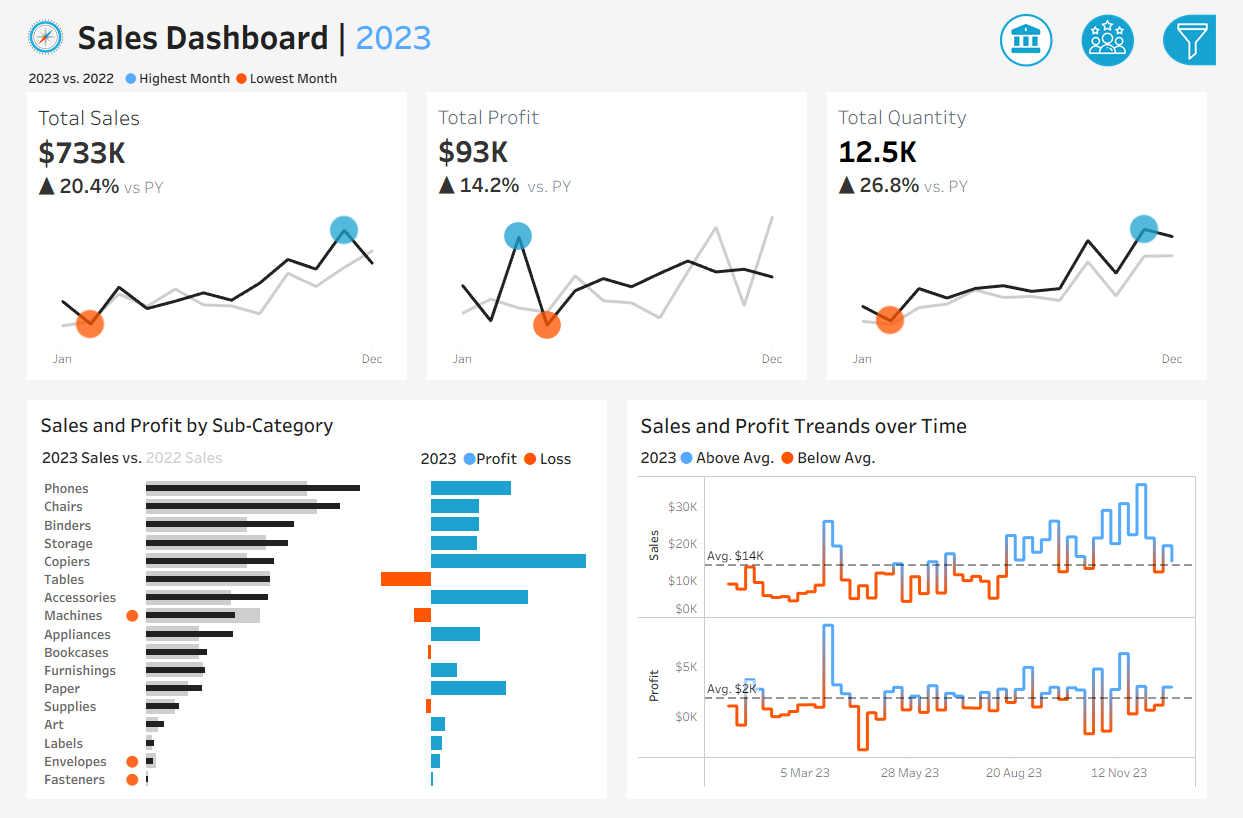

The dashboard page shown, as its layout file describes it:
{"tool":"tableau","page":{"name":"Sales Dashboard","canvas":[1200,800],"ordinal":1},"visuals":[{"type":"image","param":"Image/Icon - Logo.png","box":[2,0,52,55]},{"type":"text","box":[54,0,930,55]},{"type":"dashboard-object","box":[969,0,81,62]},{"type":"dashboard-object","box":[1050,0,81,62]},{"type":"blank","box":[978,5,215,80]},{"type":"worksheet","title":"Legend of KPI","mark":"Automatic","box":[0,55,1200,28]},{"type":"worksheet","title":"KPI Sales","mark":"Line","rows":["Calculation_0787825631051776"],"cols":["Order Date"],"box":[0,83,400,298]},{"type":"worksheet","title":"KPI Profit","mark":"Automatic","rows":["Calculation_0376338495287297"],"cols":["Order Date"],"box":[400,83,400,298]},{"type":"worksheet","title":"KPI Quantity","mark":"Automatic","rows":["Calculation_0591293386543109"],"cols":["Order Date"],"box":[800,83,400,298]},{"type":"text","box":[978,85,215,32]},{"type":"parameter","param":"[Parameters].[Parameter 1018997670502403]","box":[978,117,215,63]},{"type":"blank","box":[978,180,215,45]},{"type":"text","box":[978,225,215,29]},{"type":"filter","title":"KPI Sales","param":"[federated.0a49qa90tgosyq102g3m016yynfo].[none:Category:nk]","box":[978,254,215,52]},{"type":"filter","title":"KPI Sales","param":"[federated.0a49qa90tgosyq102g3m016yynfo].[none:Sub-Category:nk]","box":[978,306,215,52]},{"type":"blank","box":[978,358,215,42]},{"type":"text","box":[17,398,566,34]},{"type":"text","box":[617,398,566,36]},{"type":"text","box":[978,400,215,38]},{"type":"worksheet","title":"Legend of Sub-Category","mark":"Automatic","box":[17,432,380,34]},{"type":"text","box":[397,432,186,34]},{"type":"text","box":[617,434,566,29]},{"type":"filter","title":"KPI Sales","param":"[federated.0a49qa90tgosyq102g3m016yynfo].[none:Region:nk]","box":[978,438,215,52]},{"type":"worksheet","title":"Weekly Trends","mark":"Automatic","rows":["Calculation_1018997668982784","Calculation_0606411282939905"],"cols":["Order Date"],"box":[617,463,566,320]},{"type":"worksheet","title":"Category Comparison","mark":"Bar","rows":["Sub-Category","Calculation_0218833958481920"],"cols":["Calculation_1018997669982209","Calculation_1018997668982784","Calculation_0606411282939905"],"box":[17,466,566,316.9]},{"type":"filter","title":"KPI Sales","param":"[federated.0a49qa90tgosyq102g3m016yynfo].[none:State:nk]","box":[978,490,215,52]},{"type":"filter","title":"KPI Sales","param":"[federated.0a49qa90tgosyq102g3m016yynfo].[none:City:nk]","box":[978,542,215,52]}]}

Visuals, with their boxes in screenshot pixels (x1, y1, x2, y2), scaled from the page's 1200x800 canvas onto the 1243x818 screenshot:
image: detection(2, 0, 56, 56)
text: detection(56, 0, 1019, 56)
dashboard-object: detection(1004, 0, 1088, 63)
dashboard-object: detection(1088, 0, 1172, 63)
blank: detection(1013, 5, 1236, 87)
"Legend of KPI" worksheet: detection(0, 56, 1242, 85)
"KPI Sales" worksheet (Line marks): detection(0, 85, 414, 390)
"KPI Profit" worksheet: detection(414, 85, 829, 390)
"KPI Quantity" worksheet: detection(829, 85, 1242, 390)
text: detection(1013, 87, 1236, 120)
parameter: detection(1013, 120, 1236, 184)
blank: detection(1013, 184, 1236, 230)
text: detection(1013, 230, 1236, 260)
"KPI Sales" filter: detection(1013, 260, 1236, 313)
"KPI Sales" filter: detection(1013, 313, 1236, 366)
blank: detection(1013, 366, 1236, 409)
text: detection(18, 407, 604, 442)
text: detection(639, 407, 1225, 444)
text: detection(1013, 409, 1236, 448)
"Legend of Sub-Category" worksheet: detection(18, 442, 411, 476)
text: detection(411, 442, 604, 476)
text: detection(639, 444, 1225, 473)
"KPI Sales" filter: detection(1013, 448, 1236, 501)
"Weekly Trends" worksheet: detection(639, 473, 1225, 801)
"Category Comparison" worksheet (Bar marks): detection(18, 476, 604, 801)
"KPI Sales" filter: detection(1013, 501, 1236, 554)
"KPI Sales" filter: detection(1013, 554, 1236, 607)
